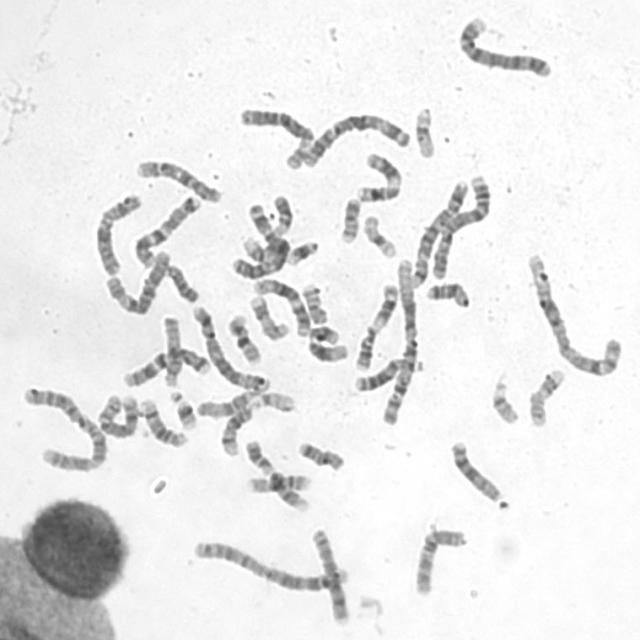A1: (523, 248, 624, 379), (377, 253, 421, 427)
A2: (188, 536, 349, 594), (19, 381, 110, 473)
A3: (297, 108, 412, 170), (228, 202, 294, 280)
B4: (426, 170, 494, 281), (454, 12, 555, 81)
B5: (406, 176, 472, 290), (188, 302, 270, 393)
C10: (410, 524, 469, 599), (133, 156, 225, 204)
C11: (352, 279, 401, 372), (353, 149, 404, 203)
C12: (250, 275, 312, 338), (304, 321, 351, 364)
C6: (101, 245, 173, 317), (235, 104, 316, 162)
C7: (130, 191, 202, 270), (120, 344, 214, 389)
C8: (308, 524, 352, 626), (94, 389, 140, 440)
C9: (241, 436, 312, 513), (243, 196, 294, 266)
D13: (447, 437, 504, 504), (351, 353, 425, 393)
D14: (136, 394, 190, 449), (218, 400, 255, 458)
D15: (193, 382, 264, 420), (159, 312, 183, 389)
E16: (224, 309, 263, 366), (244, 470, 314, 494)
E17: (526, 363, 568, 429), (245, 292, 290, 342)
E18: (294, 438, 347, 472), (422, 278, 472, 310)
F19: (358, 211, 399, 260), (411, 103, 438, 160)
F20: (298, 280, 329, 326), (337, 193, 362, 244)
G21: (166, 386, 199, 432), (284, 236, 320, 267)
G22: (487, 374, 521, 426), (250, 388, 298, 414)
X: (90, 190, 144, 278)
Y: (162, 260, 201, 304)
